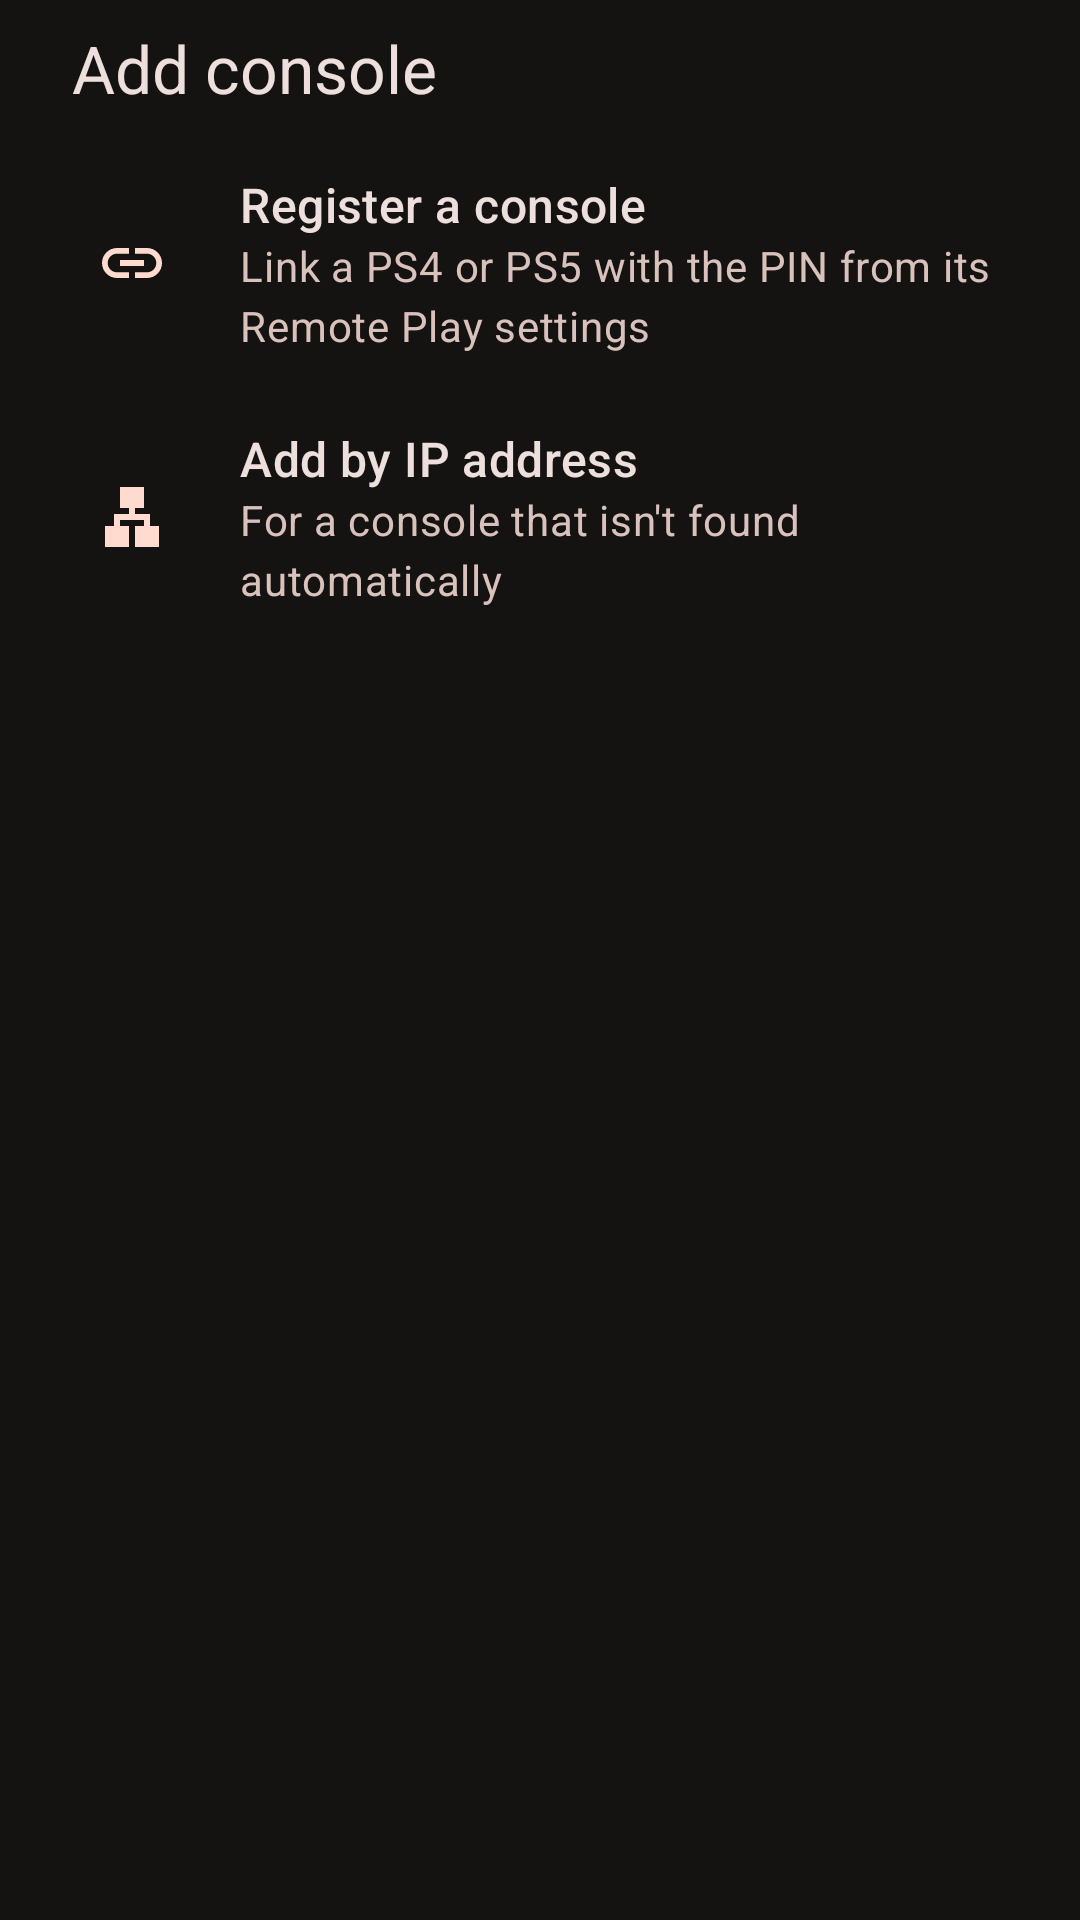

Icon click points for this 1080×1920 phone screenshot, format [x,y]:
lan: [132,517]
